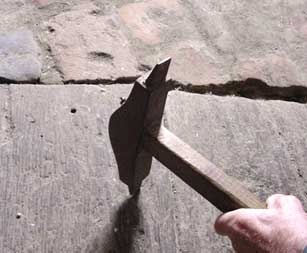hammer: (106, 55, 307, 252)
